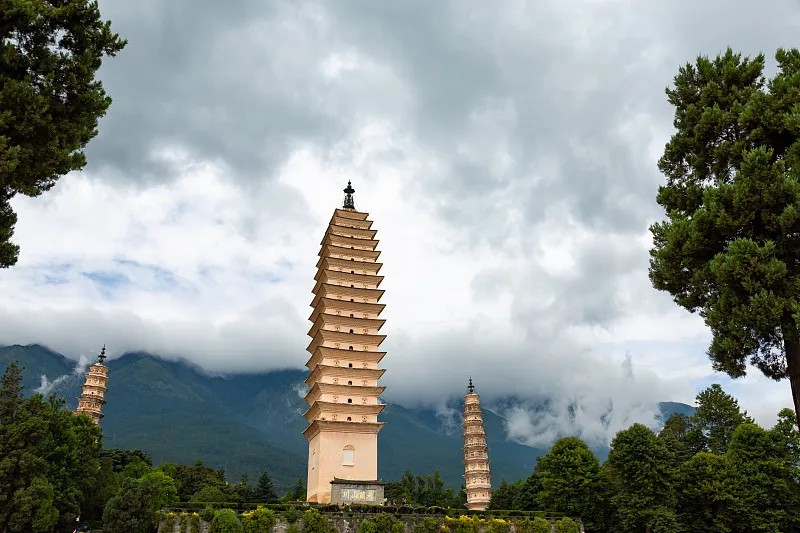ThreePagoda: (302, 181, 386, 504)
